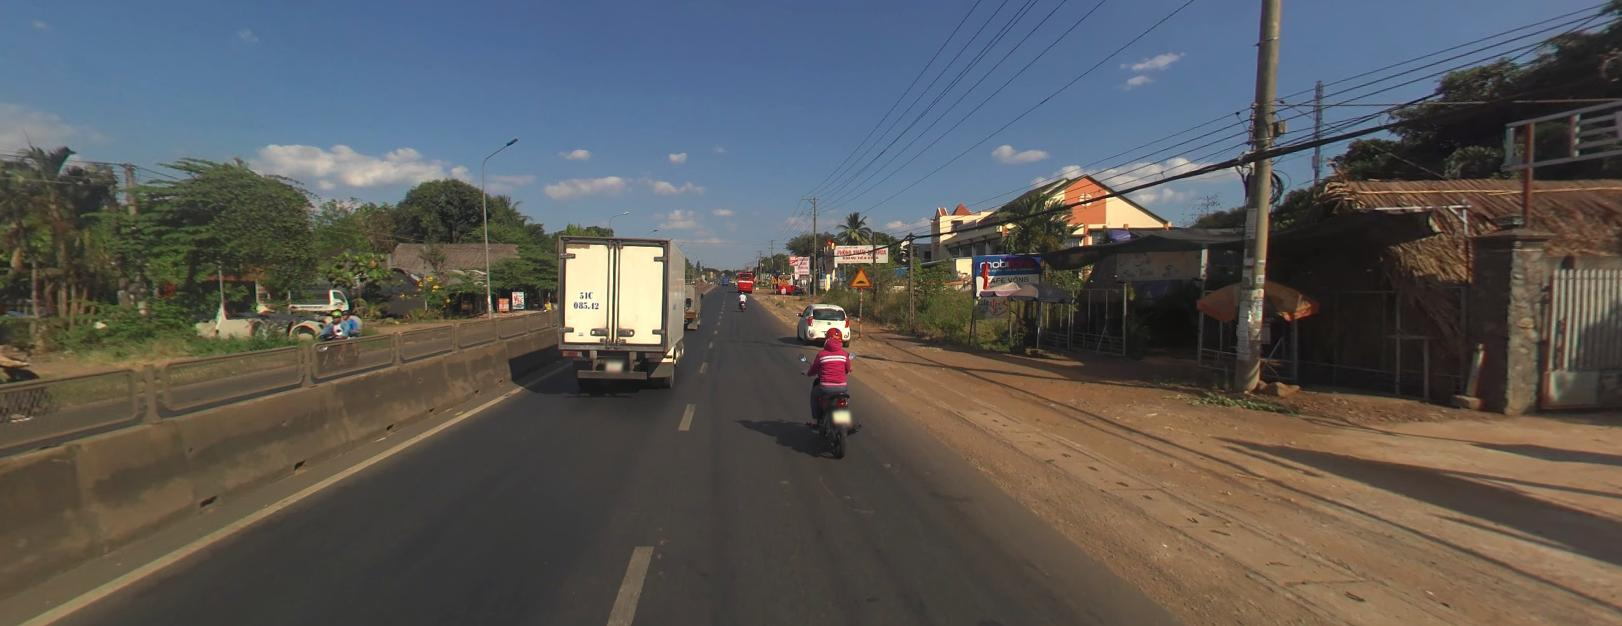Nguy hiem: (849, 267, 871, 285), (779, 276, 787, 284), (771, 276, 778, 282)
